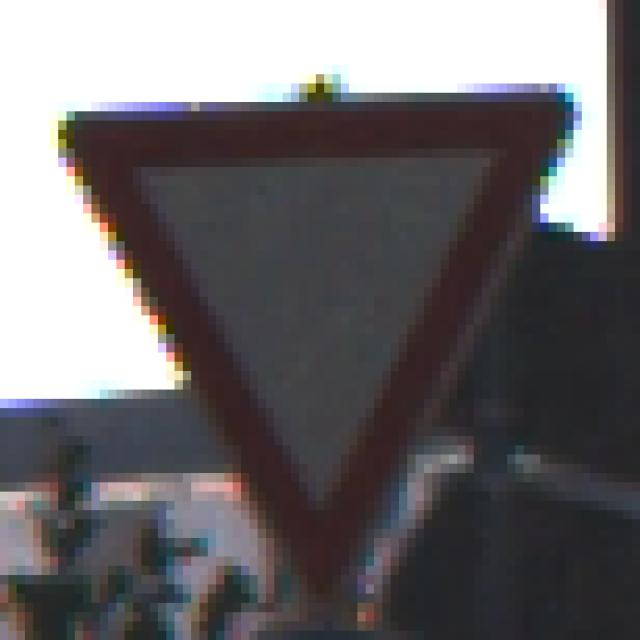Give Way: (51, 57, 583, 585)
